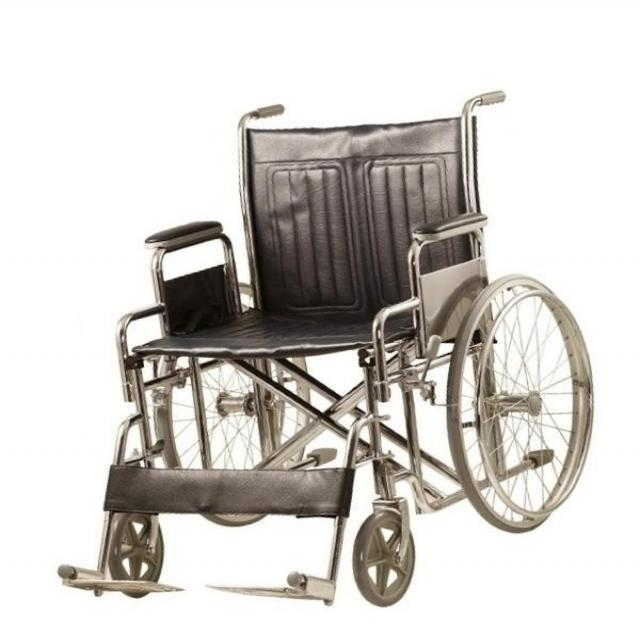wheelchair: (39, 75, 628, 636)
